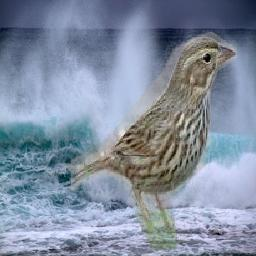Sparrow: (71, 30, 237, 250)
